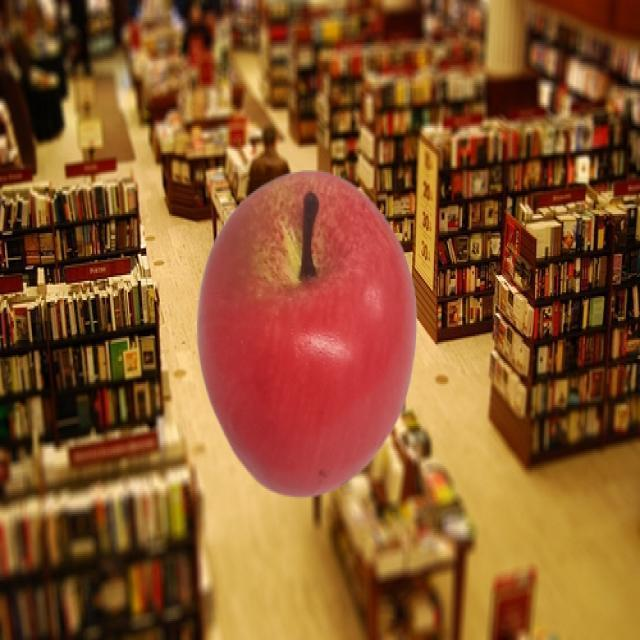apple: (196, 169, 417, 498)
